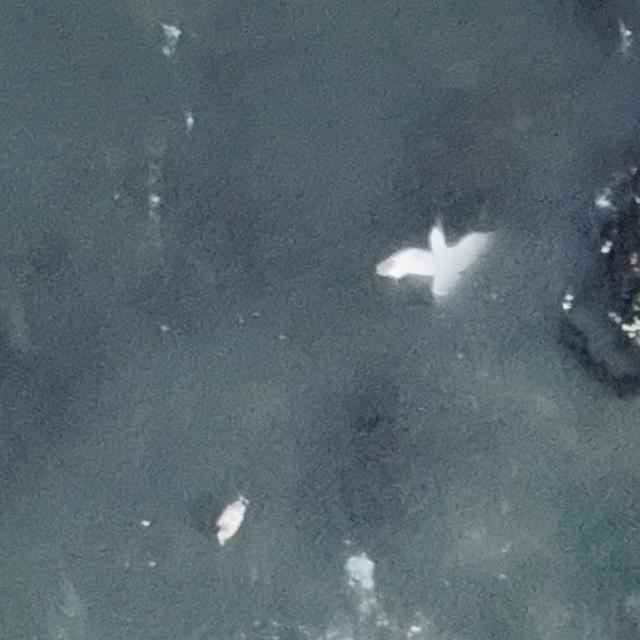F: (388, 224, 481, 296)
